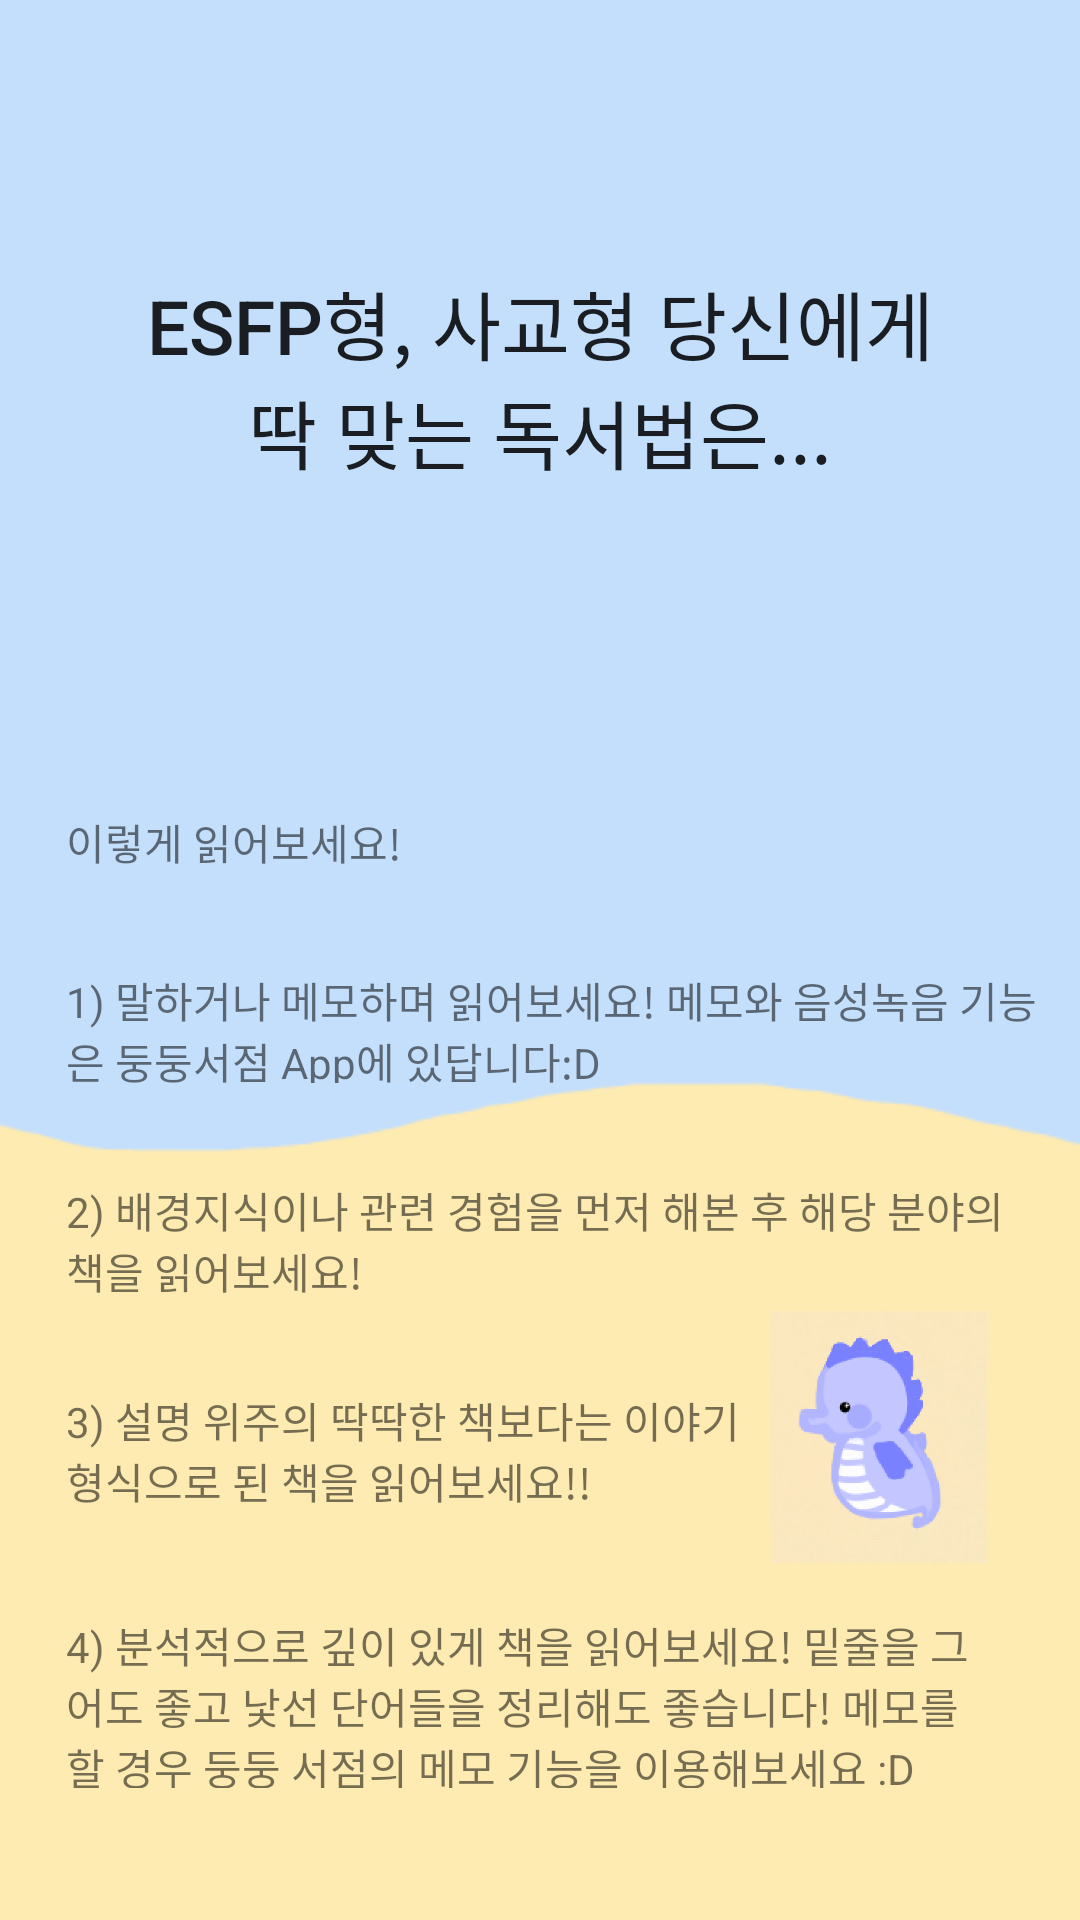

Locate icon controls on the screen. Image size 1080px x 1920px, boxes as (x1, y1, x2, y2).
seahorse: (798, 1336, 941, 1530)
